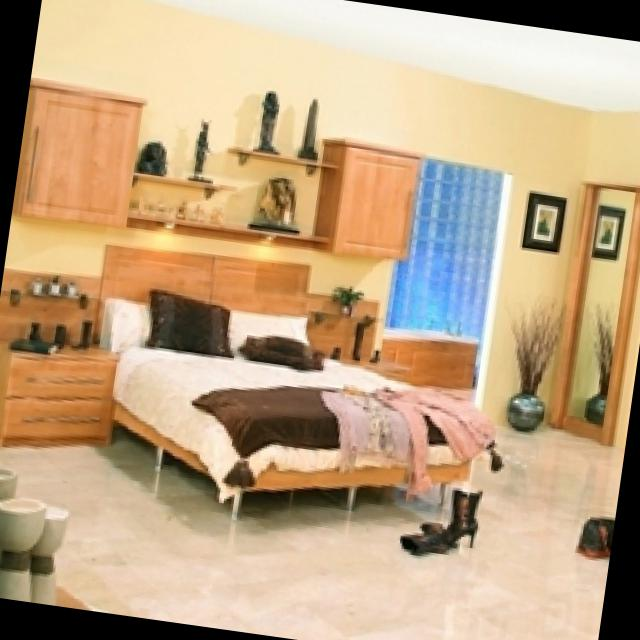bath occluded: (175, 223, 234, 308)
bottle crop: (133, 250, 161, 304), (502, 325, 529, 376)
cabinet door: (267, 394, 505, 640)
counter bottom: (293, 310, 549, 528)
door bars: (486, 37, 640, 640)
rug -partially obscured-: (7, 533, 271, 632)
shower crop: (9, 0, 330, 524)
shower door: (17, 0, 114, 376)
sink basin: (420, 389, 531, 468)
toilet bowl: (126, 289, 439, 611)
towel basket: (364, 37, 505, 313)
towel ring: (332, 23, 517, 70)
tube: (325, 380, 445, 418), (526, 347, 546, 397)
